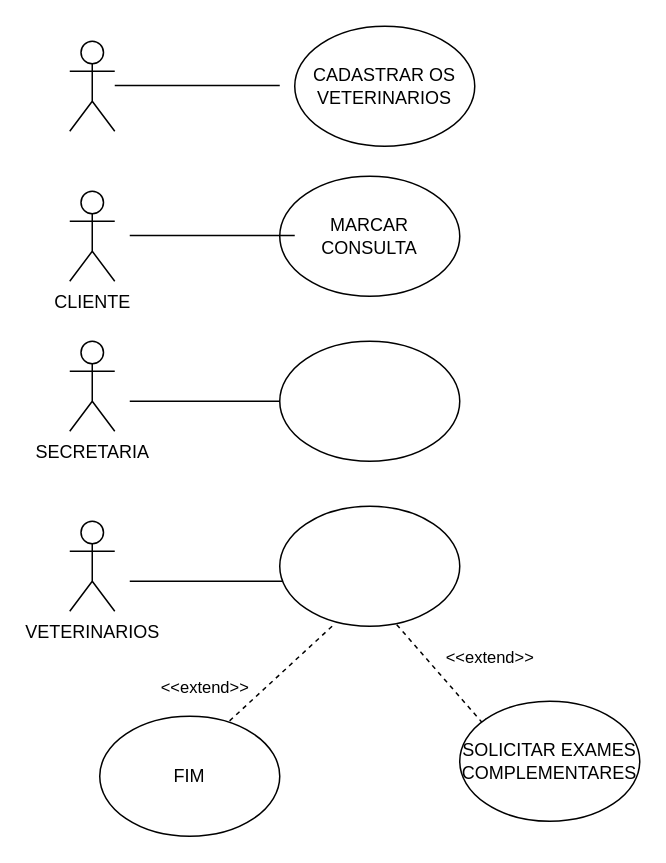
Some shapes in this 666 by 863 pixel diagram are drawn without their labels. Here are the shapes that lost their labels. From the top down, the centre of each, then its label:
At (91,85): "SOFTWARE".
At (369,400): "REGISTRAR OS ANIMAIS E SEUS DONOS".
At (369,565): "REALIZAR A CONSULTA".
